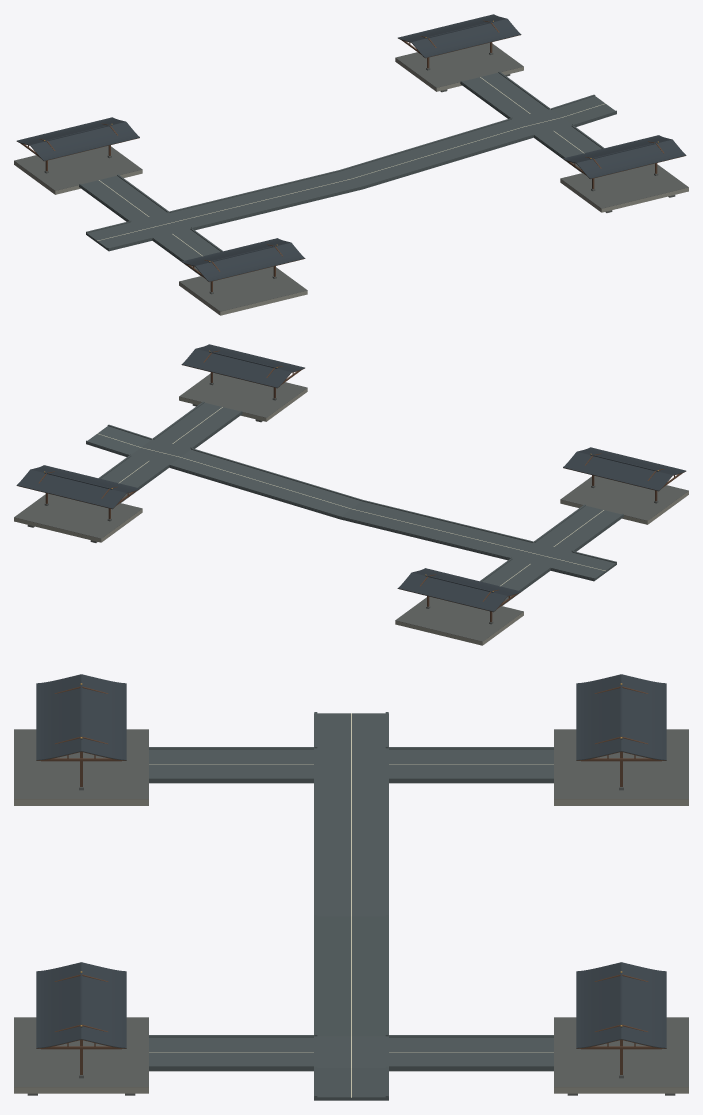
3 renders of one model, top to bottom at view 1: azimuth 30°, elevation 25°; view 2: azimuth 150°, elevation 25°; view 3: azimuth 270°, elevation 25°, orthographic. The views are drawn at different scales.
Visible parts, largest first — view 1: 连续路段、实嵌线与肩条 (×10), 石铺面与混凝土承板 (×4), 连续飞檐与梁椽 (×4); view 2: 连续路段、实嵌线与肩条 (×10), 石铺面与混凝土承板 (×4), 连续飞檐与梁椽 (×4); view 3: 连续路段、实嵌线与肩条 (×10), 石铺面与混凝土承板 (×4), 连续飞檐与梁椽 (×4).
Part boxes in pixels (x1,y1,x2,y2): 连续路段、实嵌线与肩条 (×10): (79,71,616,275); 石铺面与混凝土承板 (×4): (14,42,688,315); 连续飞檐与梁椽 (×4): (16,14,686,282); 连续路段、实嵌线与肩条 (×10): (86,401,623,605); 石铺面与混凝土承板 (×4): (14,372,688,645); 连续飞檐与梁椽 (×4): (16,344,686,612); 连续路段、实嵌线与肩条 (×10): (149,712,553,1100); 石铺面与混凝土承板 (×4): (14,729,688,1093); 连续飞檐与梁椽 (×4): (36,674,666,1049).
Bounding box in the file's own units: 128 × 11.3 × 90.
Materials: 12 (12 with a texture image).
